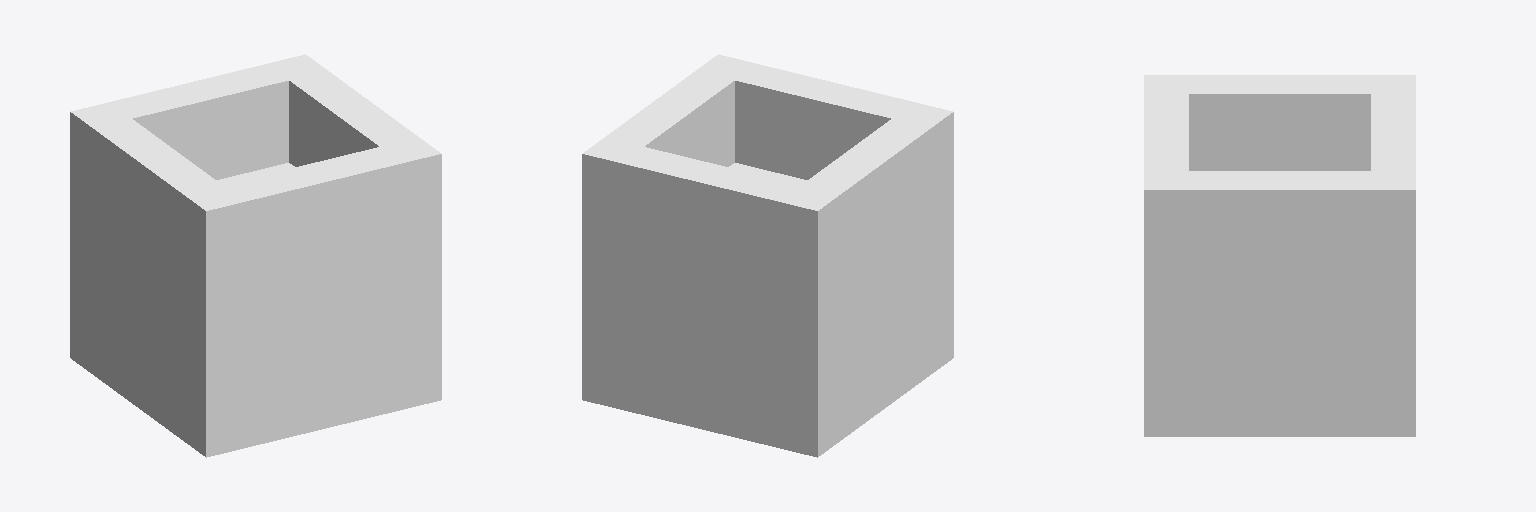
The model's file is OBlock.obj.
3 views of the same model, side by side, from view 1: azimuth 30°, elevation 25°; view 2: azimuth 150°, elevation 25°; view 3: azimuth 270°, elevation 25° (orthographic).
Parts seen in each view (by area): view 1: object 1; view 2: object 1; view 3: object 1.
Part boxes in pixels (x1,y1,x2,y2): object 1: (70,54,441,457); object 1: (582,54,953,457); object 1: (1144,75,1415,436).
Size of the model in its own units: 0.6 by 0.6 by 0.6.